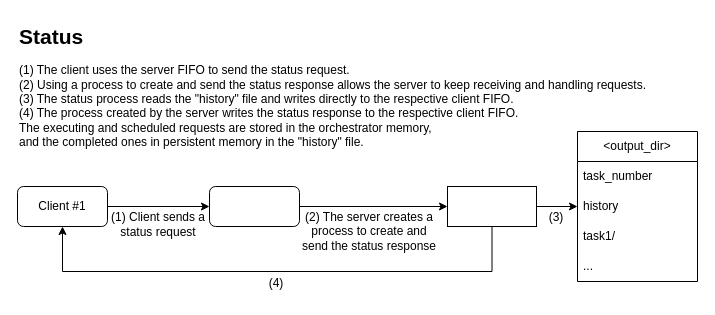
The diagram is 715 pixels wide and 315 high, and some of its shapes have lost their labels. The shapes that lost their labels are listed below. From the top down, each one's centre as x and y in pixels, then its label:
the point at 254,206: Orchestrator Server
the point at 491,206: Status Process
